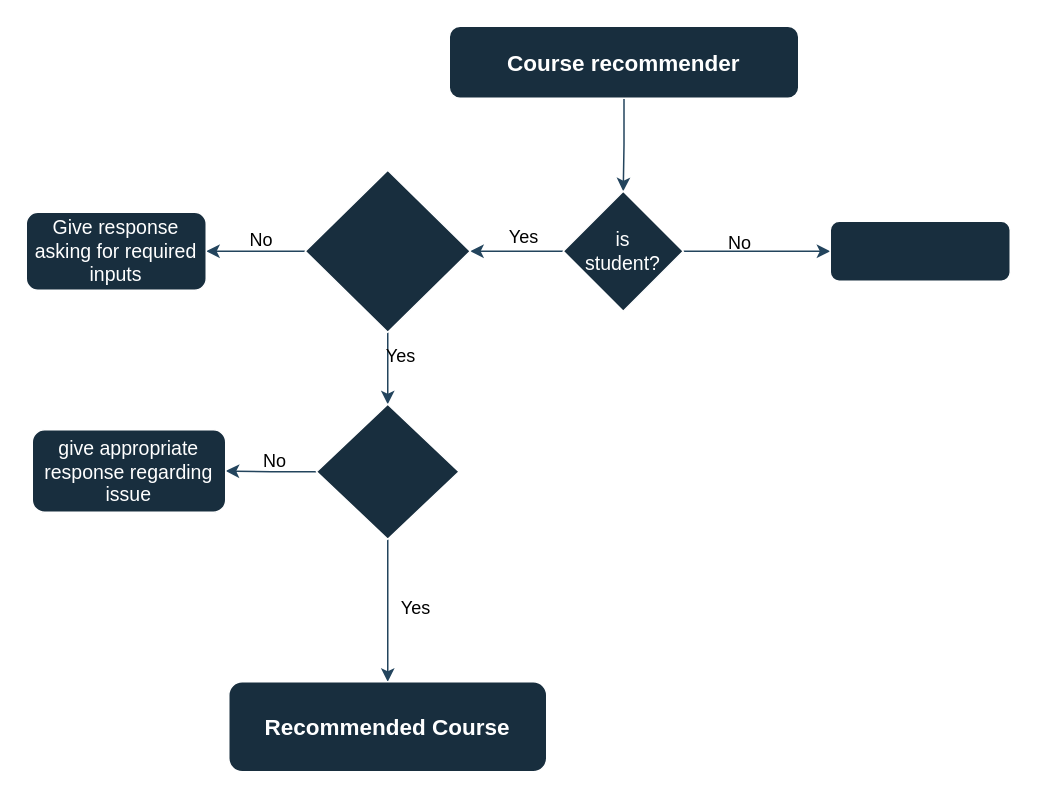
The diagram is 1037 pixels wide and 798 high, and some of its shapes have lost their labels. Here are the shapes that lost their labels. From the top down, the centre of each, then its label:
At point 387,250: "all required inputs given?".
At point 919,250: "Invalid user".
At point 387,471: "is all data valid?".
